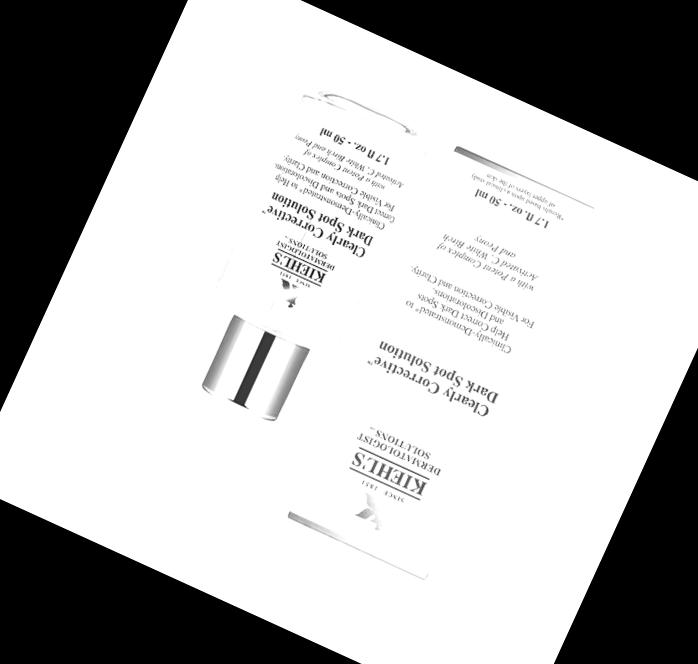cosmetic: (146, 92, 422, 496)
